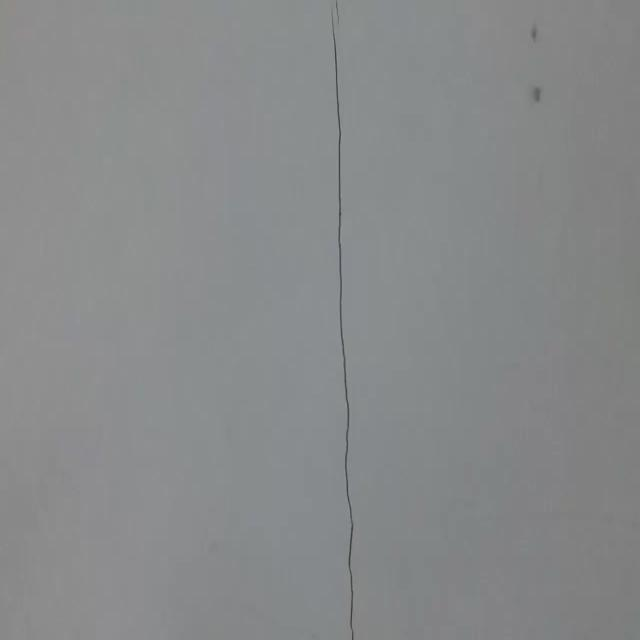Crack: (310, 13, 380, 640)
